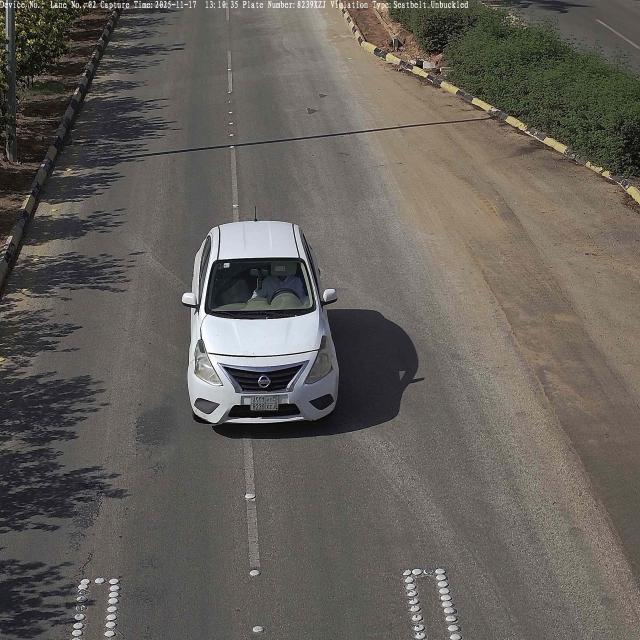person_without_seatbelt: (258, 263, 304, 304)
